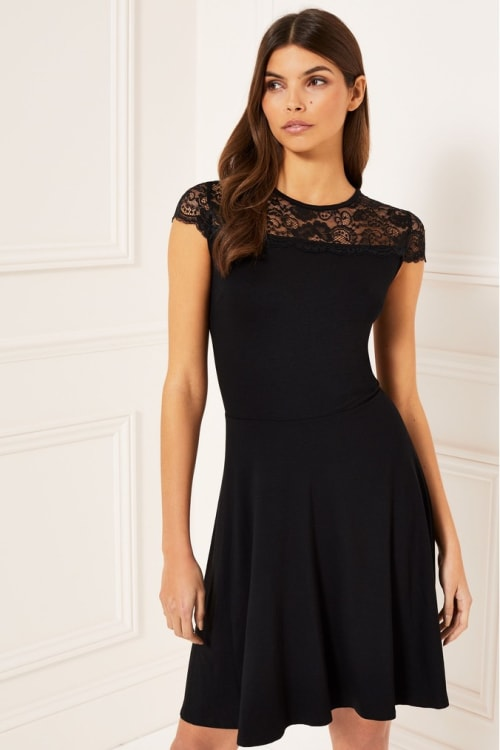S_dress: (145, 175, 455, 721)
